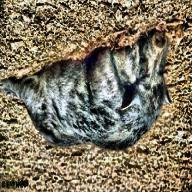boar: (3, 32, 183, 162)
